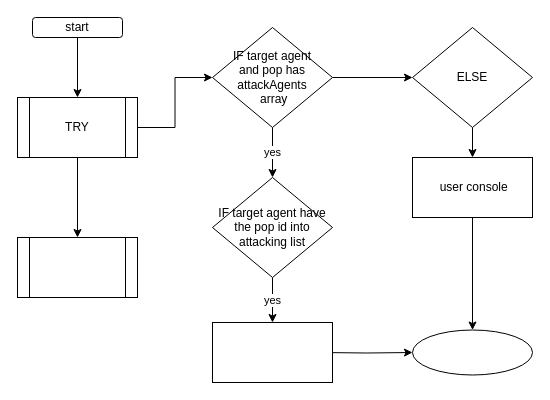
Some shapes in this 550 by 400 pixel diagram are drawn without their labels. The shapes that lost their labels are listed below. From the top down, each one's centre as x and y in pixels, then its label:
[77,267]: CATCH
[272,352]: remove the pop id into target agent list
[472,352]: end
